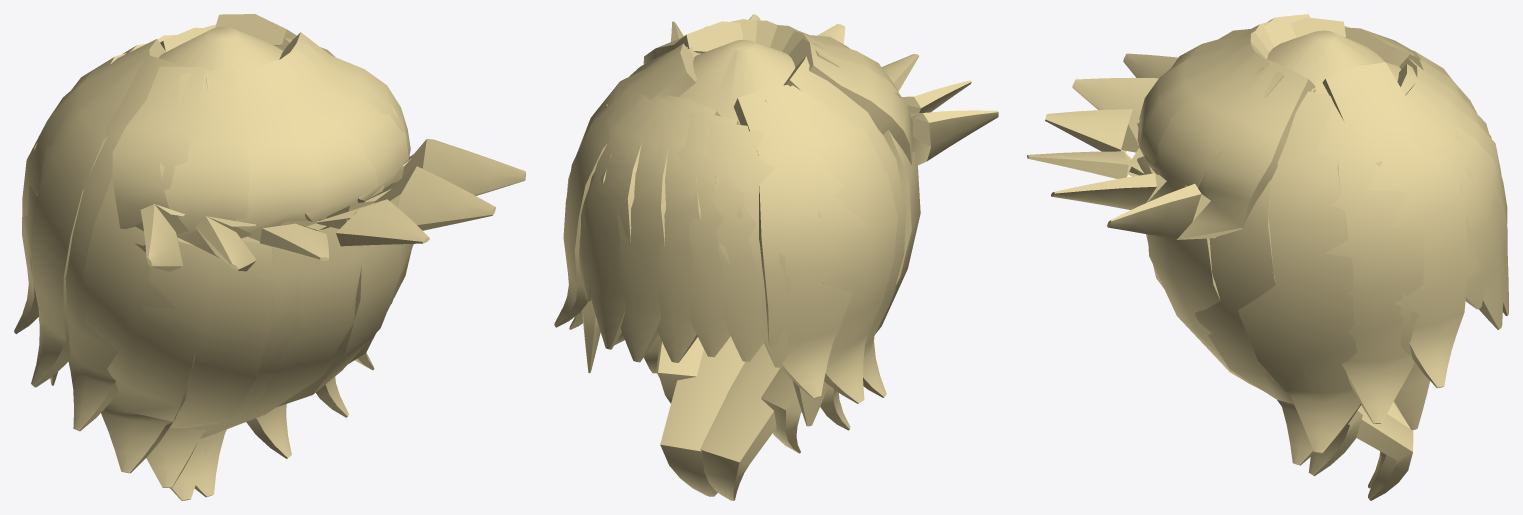
Rendered from hair_1.fbx.
3 renders of one model, left to right at view 1: azimuth 30°, elevation 25°; view 2: azimuth 150°, elevation 25°; view 3: azimuth 270°, elevation 25°, orthographic. The views are drawn at different scales.
Parts seen in each view (by area): view 1: Hair; view 2: Hair; view 3: Hair.
Boxes of the visible parts, x1,y1,x2,y2 form: Hair: (14,14,525,500); Hair: (554,14,998,500); Hair: (1027,14,1508,500).
Bounding box in the file's own units: 0.2857 × 0.357 × 0.3407.
